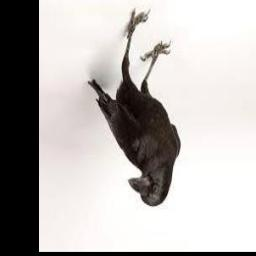Crow: (88, 7, 181, 208)
